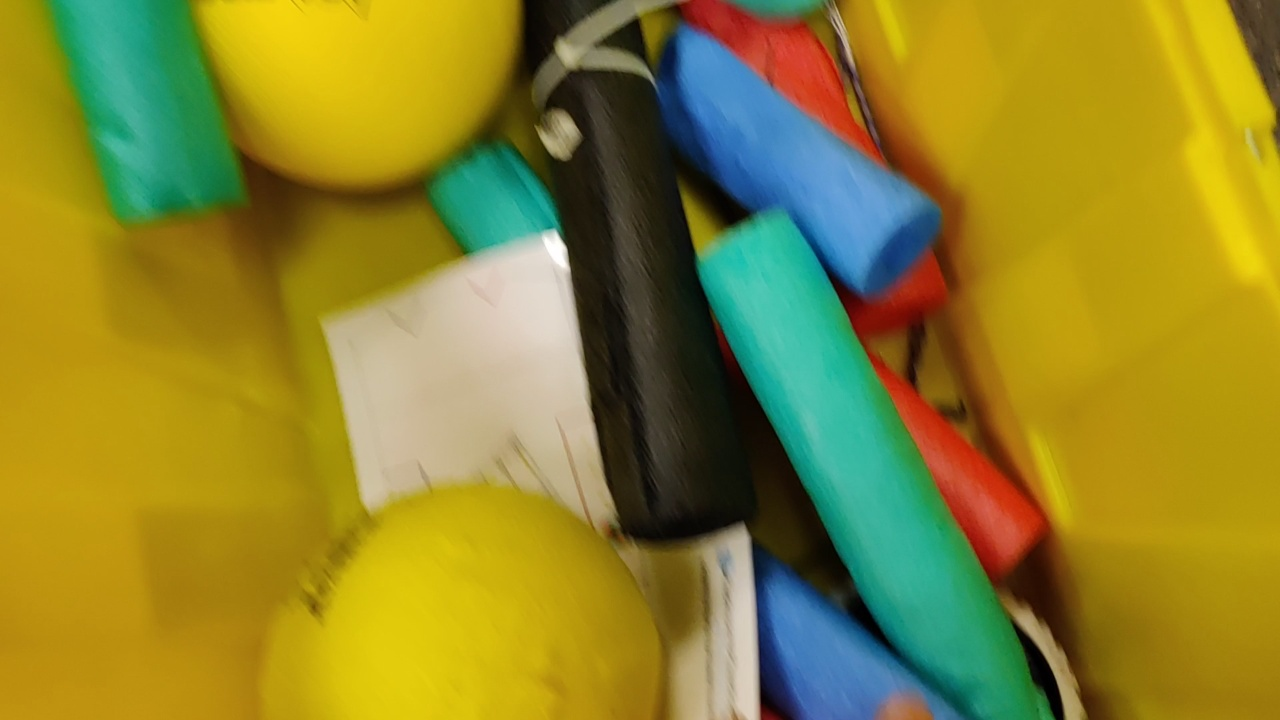Ball: (258, 484, 666, 720)
